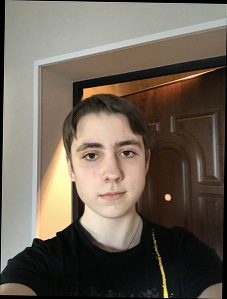without_mask: (70, 136, 146, 220)
